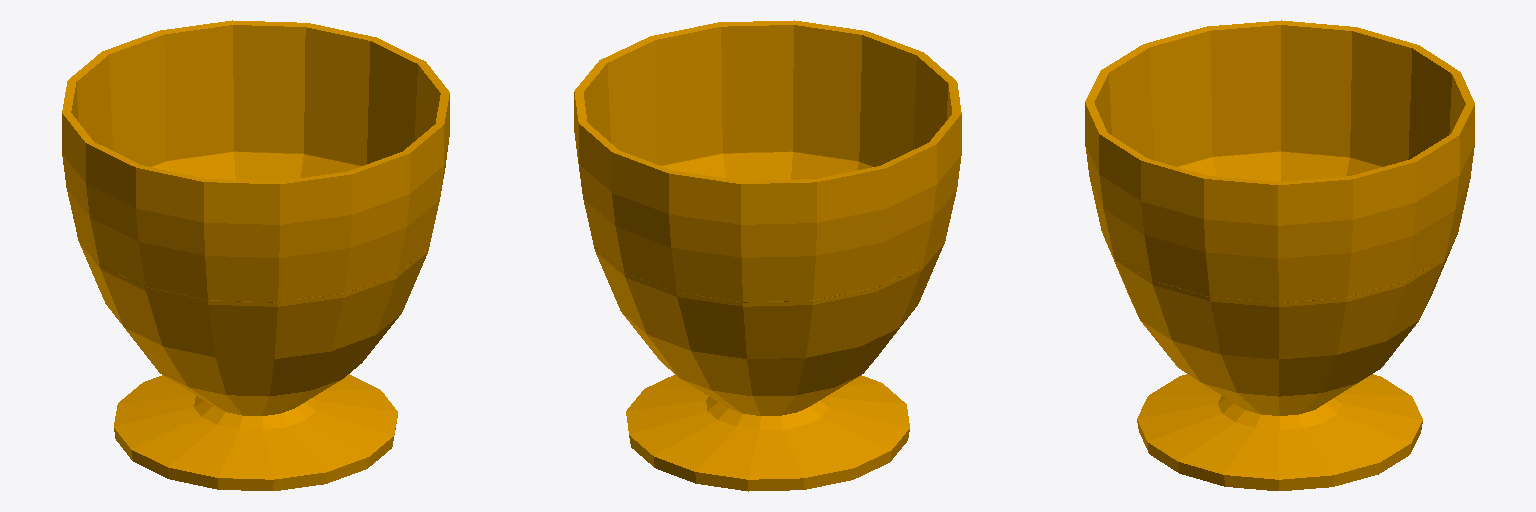
URDF robot description (ikea_cup_model):
<robot name="ikea_cup_model">
  <link name="ikea_cup">
    <inertial>
      <mass value="1.0" />
      <!-- center of mass (com) is defined w.r.t. link local coordinate system -->
      <origin xyz="0 0 0.06" /> 
      <inertia  ixx="0.01" ixy="0.0"  ixz="0.0"  iyy="0.01"  iyz="0.0"  izz="0.001" />
    </inertial>
    <visual>
      <!-- visual origin is defined w.r.t. link local coordinate system -->
      <origin xyz="0 0 0" rpy="0 0 0" />
      <geometry>
        <mesh filename="package://ros_lfd_lat/meshes/ikea_cup.stl" scale="0.001 0.001 0.0008" />
      </geometry>
    </visual>
    <collision>
      <!-- collision origin is defined w.r.t. link local coordinate system -->
      <origin xyz="0 0 0" rpy="0 0 0" />
      <geometry>
        <mesh filename="package://ros_lfd_lat/meshes/ikea_cup.stl" scale="0.001 0.001 0.0008" />
      </geometry>
    </collision>
  </link>
  <gazebo reference="ikea_cup">
    <material>Gazebo/Blue</material>
    <turnGravityOff>false</turnGravityOff>
    <kp>100000000.0</kp>
    <kd>1000000.0</kd>
  </gazebo>
</robot>

--- Render facts (derived) ---
3 views of the same robot in one strip: view 1: azimuth 30°, elevation 25°; view 2: azimuth 150°, elevation 25°; view 3: azimuth 270°, elevation 25° (orthographic).
Robot: ikea_cup_model — 1 links, 0 joints (none); root link ikea_cup; default pose: every joint at zero.
Visible links, largest first — view 1: ikea_cup; view 2: ikea_cup; view 3: ikea_cup.
Boxes of the visible links, x1=… form: ikea_cup: x1=62, y1=20, x2=449, y2=490; ikea_cup: x1=574, y1=20, x2=961, y2=491; ikea_cup: x1=1085, y1=20, x2=1474, y2=490.
Bounding box of the posed robot: 0.0966 × 0.0966 × 0.0899 m (x, y, z).
1 mesh visuals loaded from 1 distinct referenced files (1 binary STL).